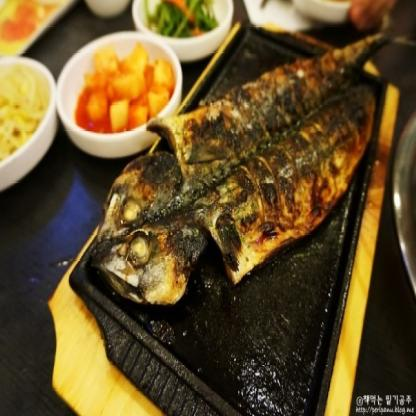Peixe: (93, 6, 406, 332)
